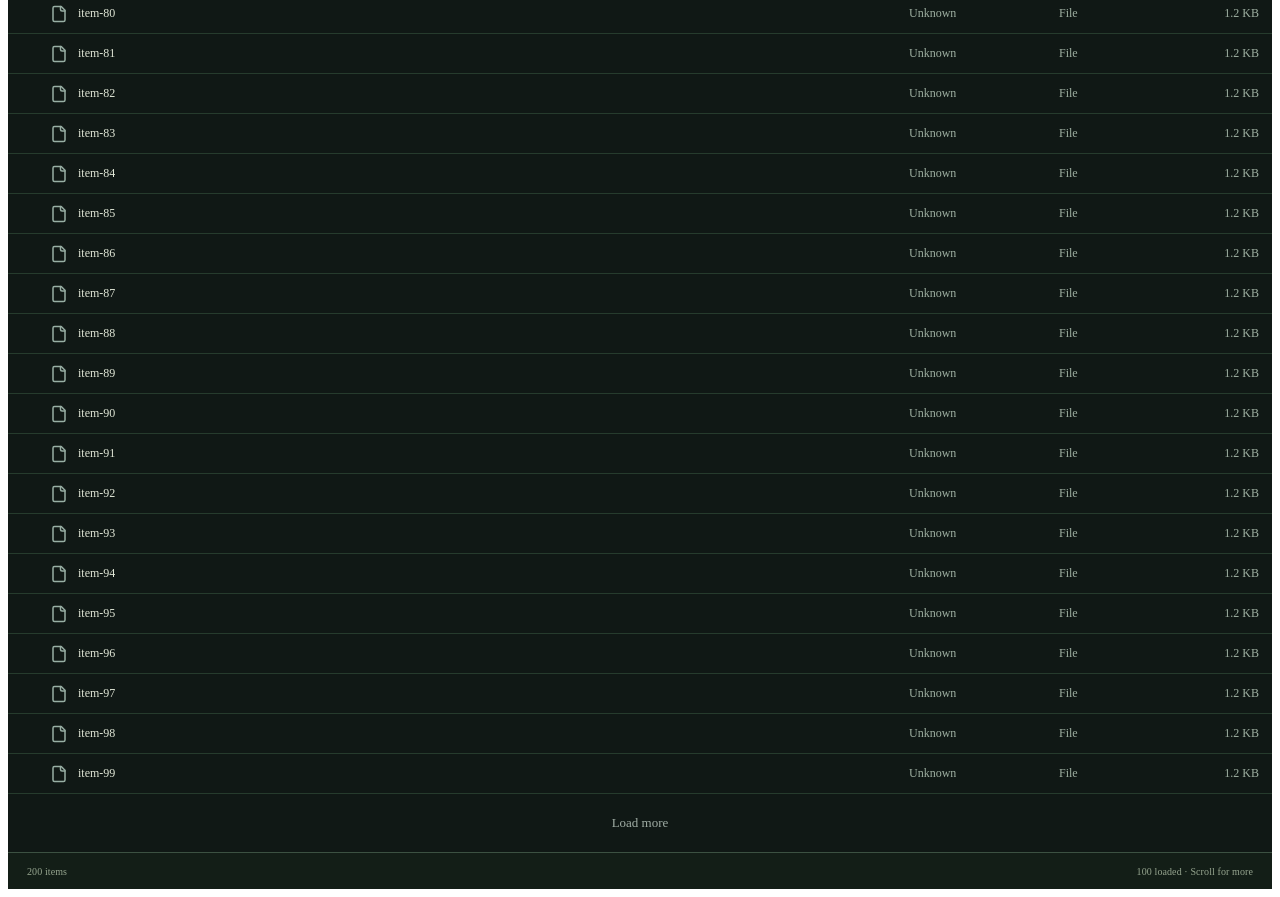
Test: recovers an evicted scroll cursor and refreshes to the loaded depth
Later steps or results of the test are not shown.
(page scrolled)
Expected: the text "item-99" is shown, [78,766,115,781]
Click the button "Load more". click: click(640, 823)
box: [8,802,1272,844]
(page scrolled)
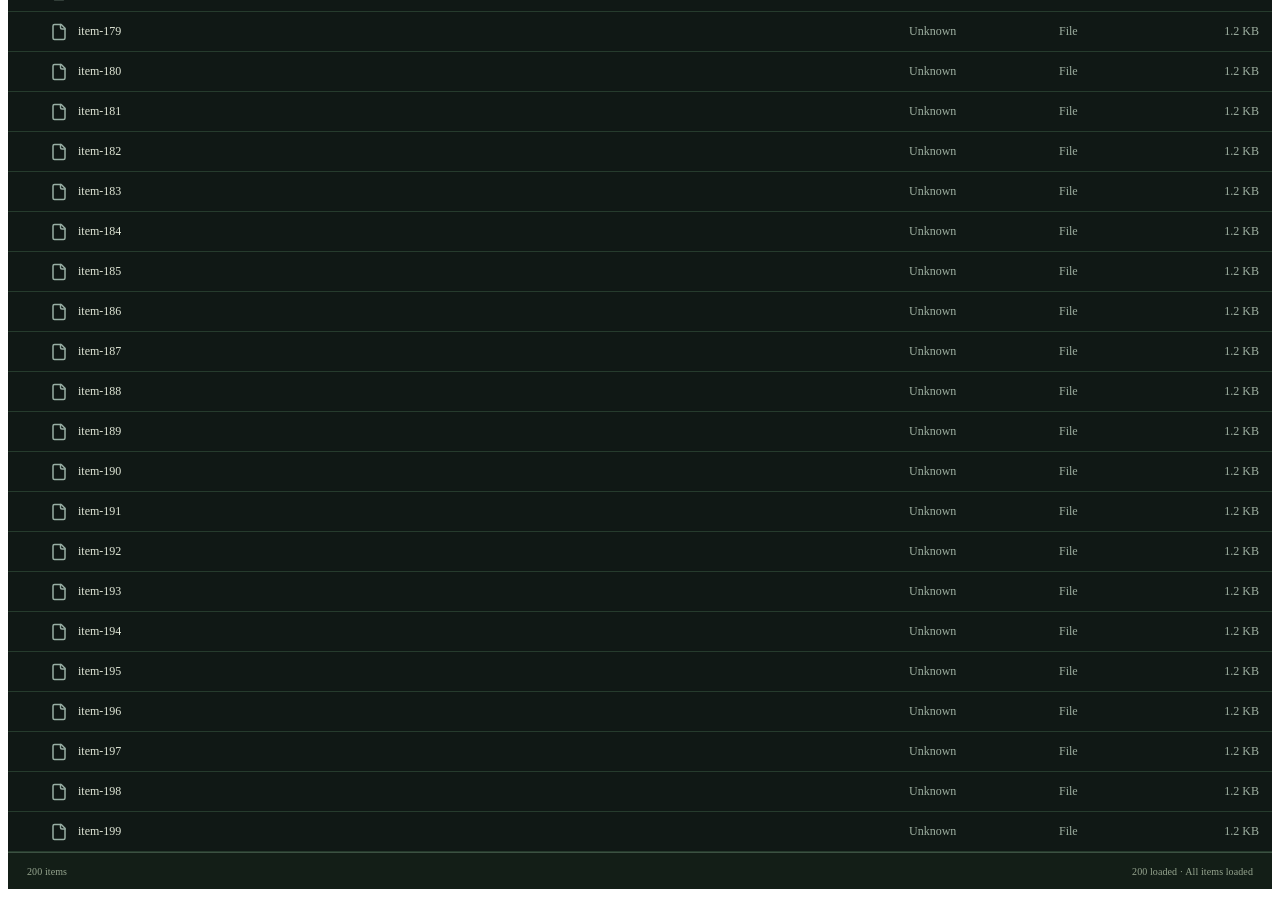
Result: the text "item-199" is shown at [78,824,121,839]
